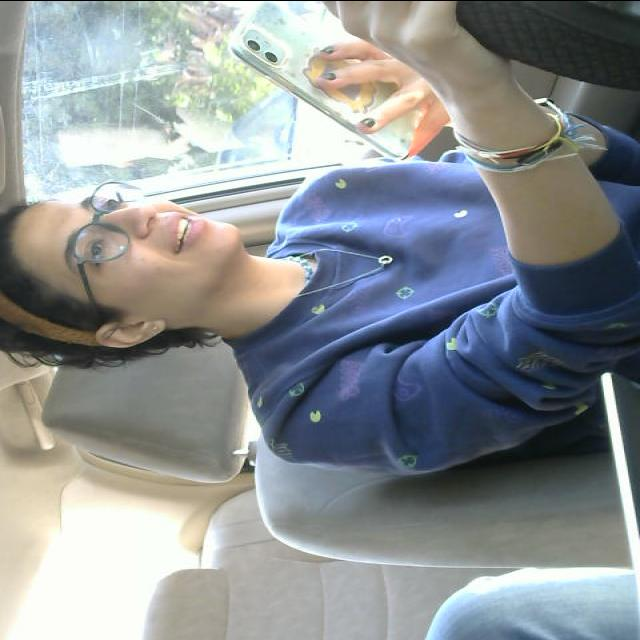mobile use: (226, 3, 448, 158)
